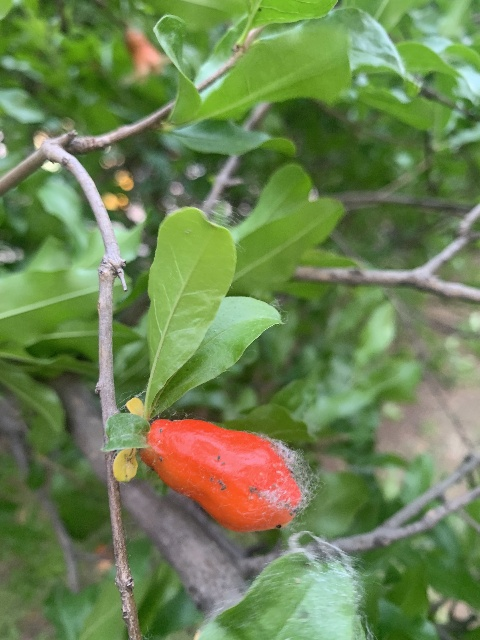bud: (139, 417, 300, 533)
